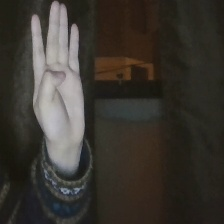B: (25, 1, 93, 150)
